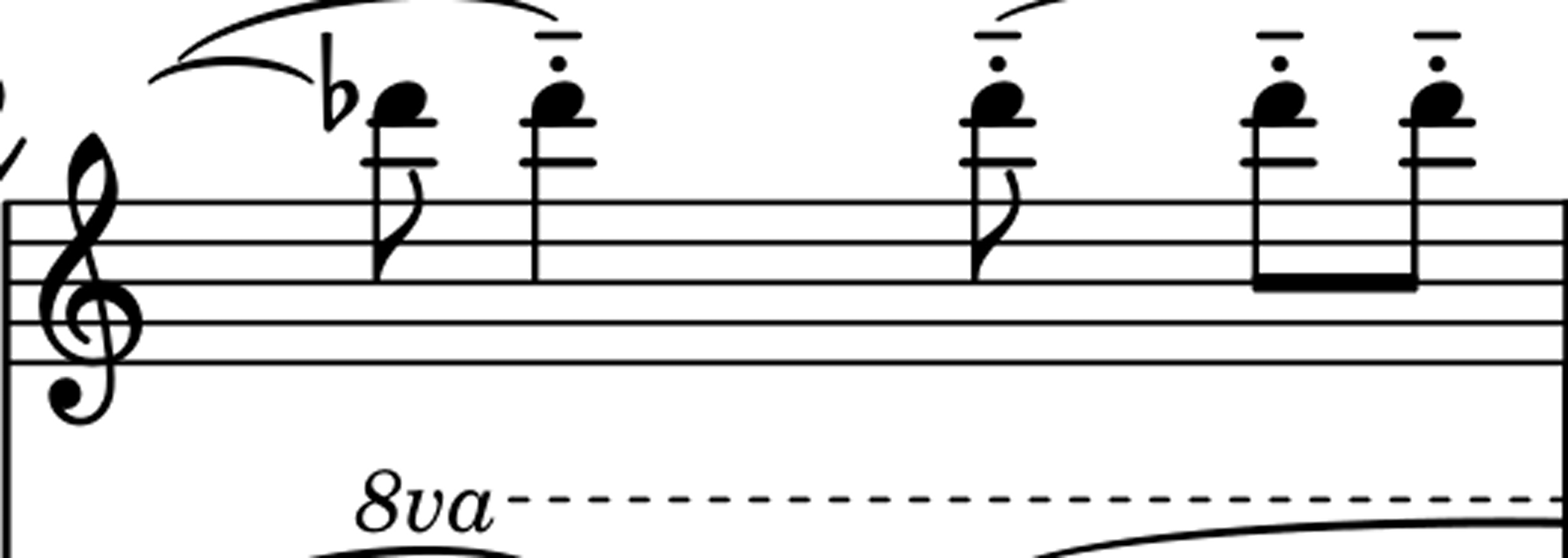accidentalFlat: (320, 32, 357, 132)
beam: (177, 0, 558, 64), (1035, 513, 1564, 558)
clefG: (22, 117, 155, 436)
flag8thDown: (971, 168, 1018, 283)
ledgerLine: (519, 159, 596, 167), (367, 118, 436, 126), (974, 33, 1021, 38)
noteheadBlackInSpace: (1411, 82, 1462, 124), (374, 81, 425, 122), (972, 81, 1022, 122), (1254, 82, 1305, 122), (532, 81, 582, 121)
slur: (149, 57, 313, 83)
tie: (148, 57, 314, 83), (311, 547, 519, 558)
